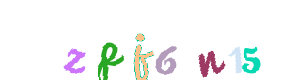1: (169, 0, 249, 80)
5: (183, 0, 263, 80)
6: (106, 0, 186, 80)
J: (101, 0, 181, 80)
N: (123, 0, 203, 80)
P: (68, 0, 148, 80)
Z: (35, 0, 115, 80)
